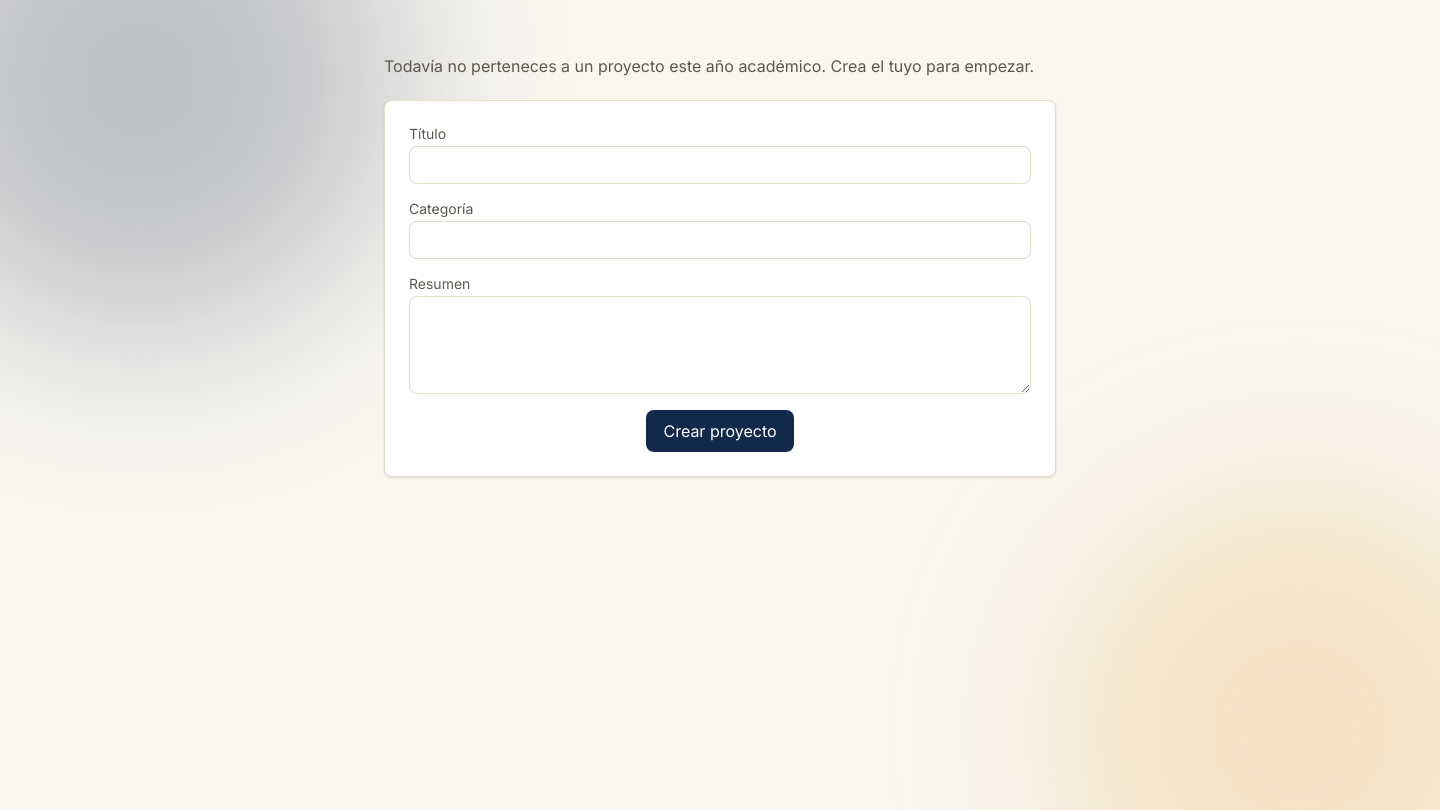
Test: MyProjectPage › sin proyecto propio, muestra el formulario de creación y crea el proyecto
Expected: the text "Todavía no perteneces a un proyecto" is shown, x1=384 y1=56 x2=1034 y2=76
Type "Energía solar en el colegio" into the field labelled "Título" at {"x": 720, "y": 165}, box x1=409 y1=146 x2=1031 y2=184
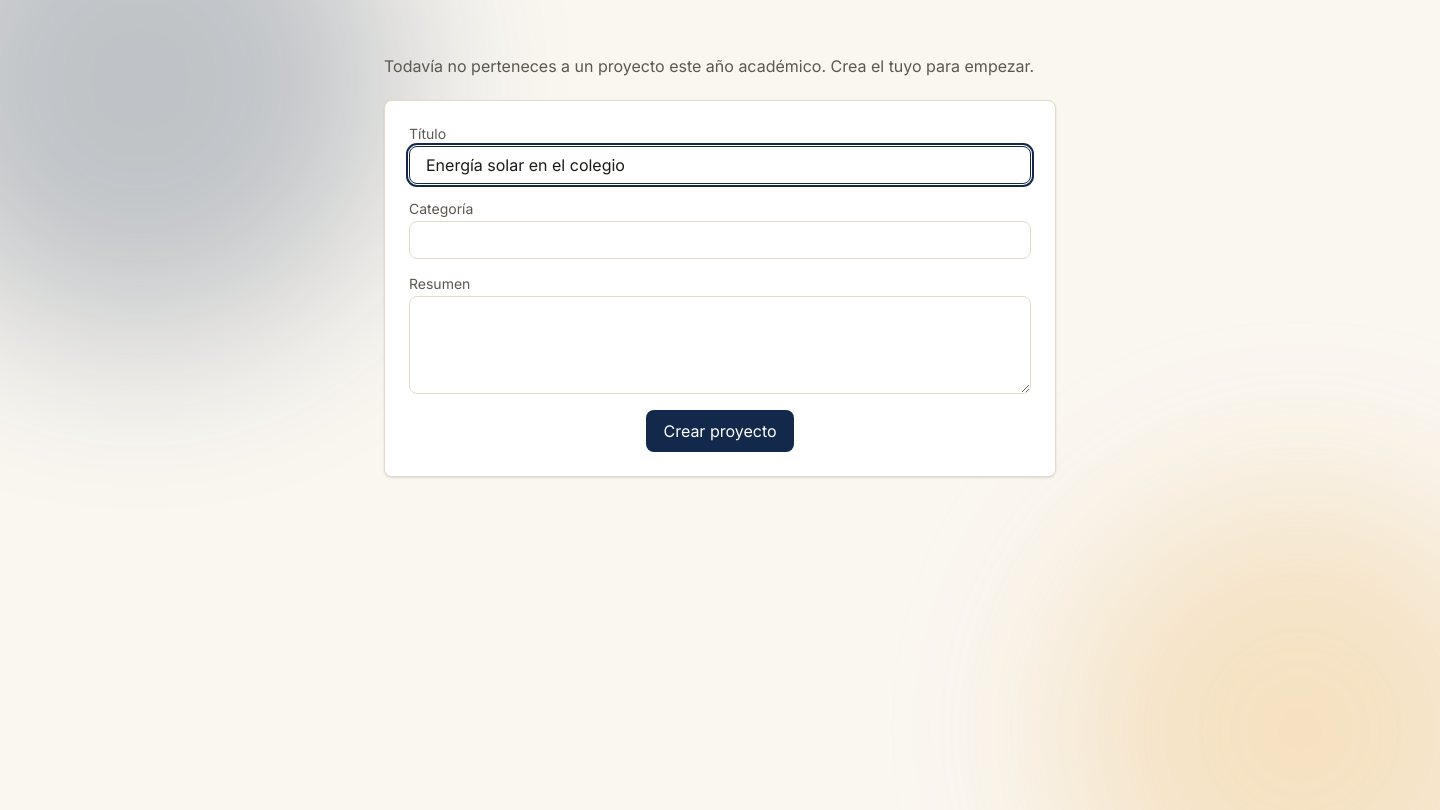
Click the button "Crear proyecto" at {"x": 720, "y": 431}, box x1=646 y1=410 x2=794 y2=452
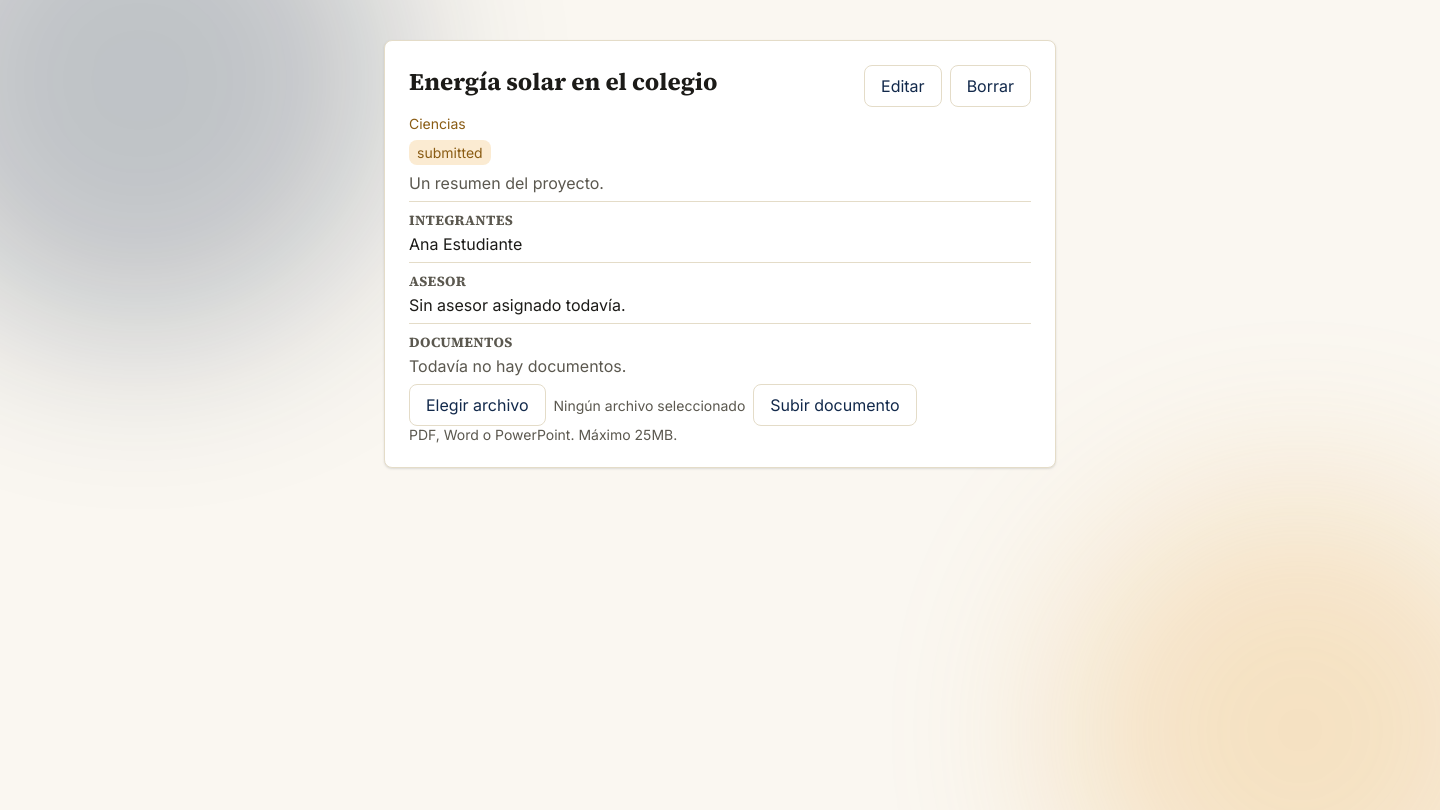
Result: the heading "Energía solar en el colegio" is shown at x1=409 y1=65 x2=718 y2=98
